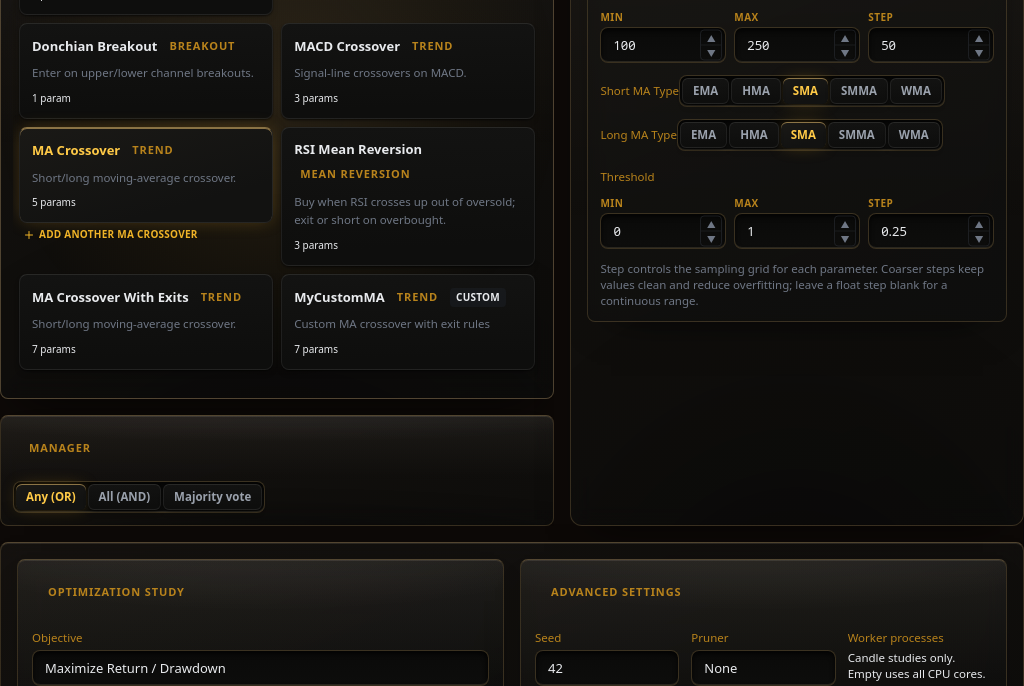
Test: OptimizeSetupPanel custom strategies › shows entry search-space fields when a custom is selected
(page scrolled)
Click the button "MyCustomMA". click: [408, 322]
box: x1=281 y1=274 x2=535 y2=370
(page scrolled)
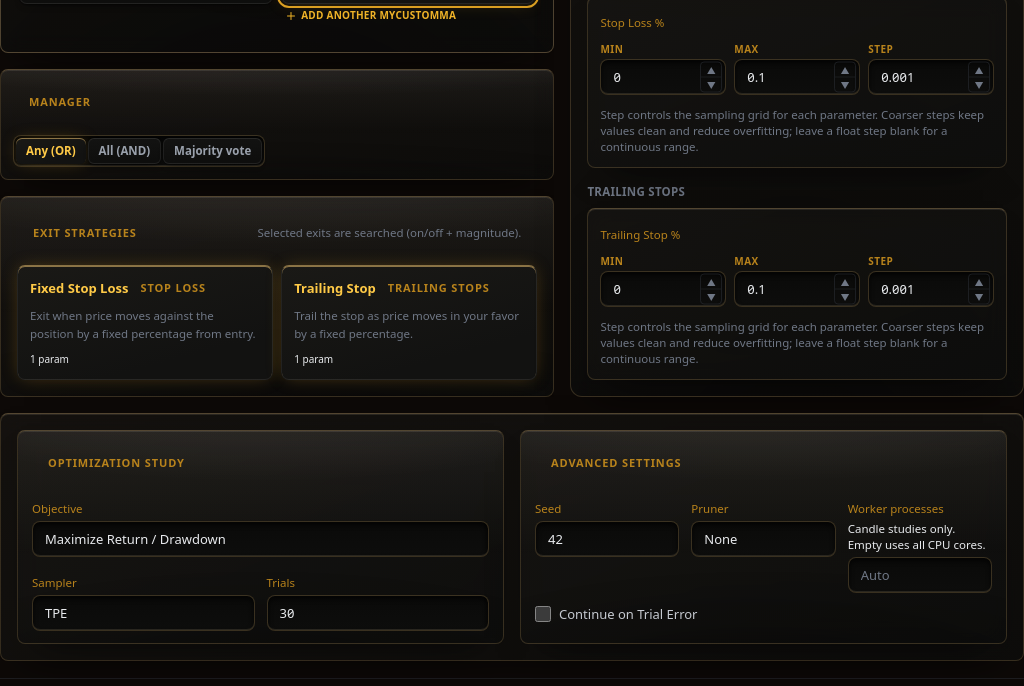
Now the heading "Exit Strategies" is shown, box x1=33 y1=225 x2=137 y2=241
Now the text "Selected exits are searched (on/off + magnitude)." is shown, box x1=258 y1=225 x2=521 y2=241
Now the button "Fixed Stop Loss" is shown, box x1=17 y1=265 x2=273 y2=380
